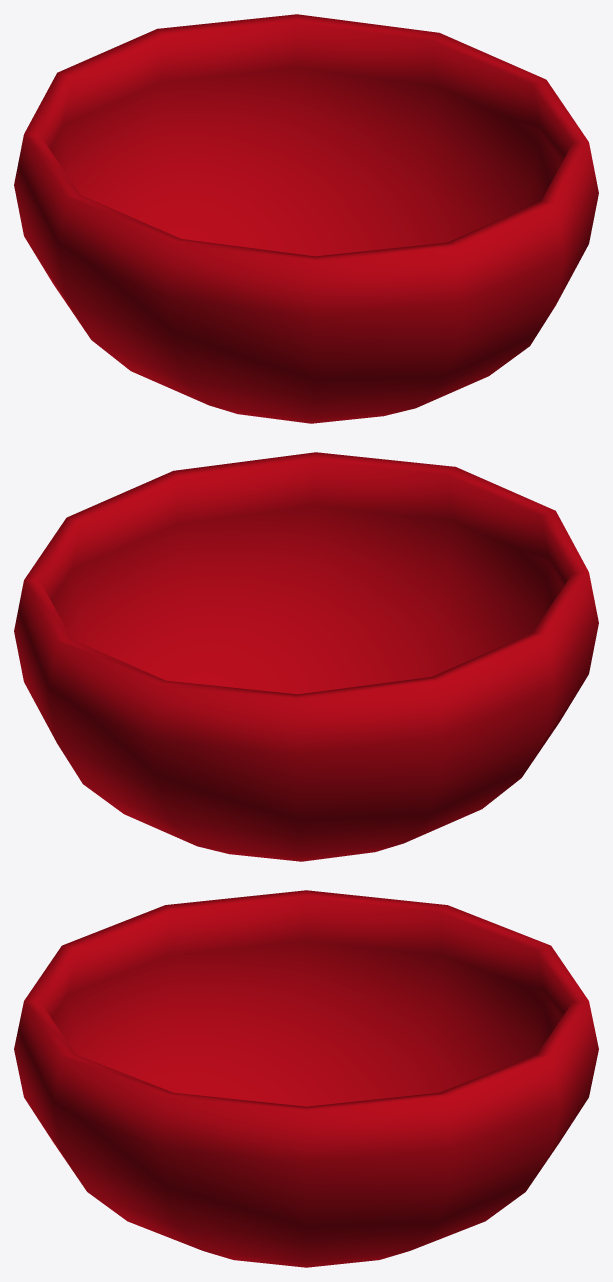
The model's file is bowl.fbx.
3 views of the same model, one above another, from view 1: azimuth 30°, elevation 25°; view 2: azimuth 150°, elevation 25°; view 3: azimuth 270°, elevation 25° (orthographic). The views are drawn at different scales.
Parts seen in each view (by area): view 1: 球体.010; view 2: 球体.010; view 3: 球体.010.
Boxes of the visible parts, box(x1,y1,x2,y2) form: 球体.010: box(14, 14, 598, 423); 球体.010: box(14, 452, 598, 861); 球体.010: box(14, 890, 598, 1267).
Bounding box in the file's own units: 153 × 72.7 × 165.
